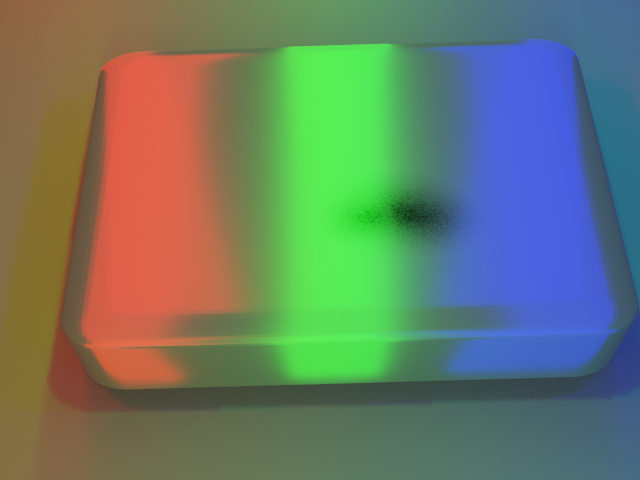stain: (289, 142, 526, 280)
